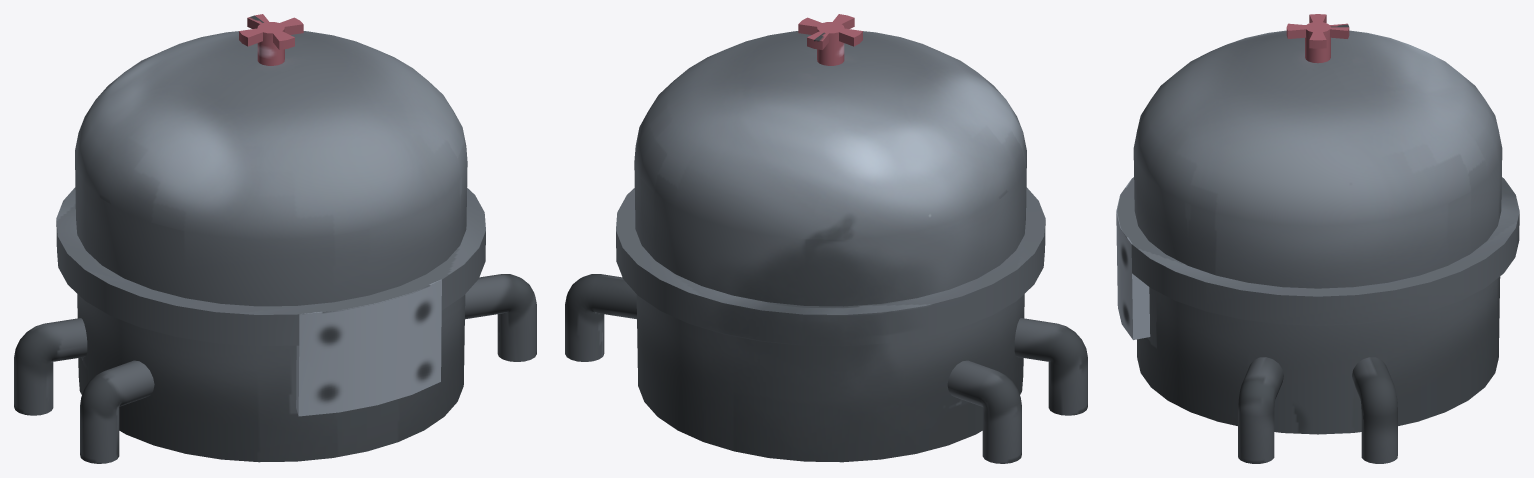
File: liquid_tank.fbx
3 views of the same model, side by side, from view 1: azimuth 30°, elevation 25°; view 2: azimuth 150°, elevation 25°; view 3: azimuth 270°, elevation 25° (orthographic). The views are drawn at different scales.
Visible parts, largest first — view 1: Pipes; view 2: Pipes; view 3: Pipes.
Part boxes in pixels (box(x1,y1,x2,y2)): Pipes: box(14, 14, 536, 463); Pipes: box(565, 14, 1087, 463); Pipes: box(1116, 14, 1519, 463).
Bounding box in the file's own units: 529 × 397 × 438.
1 material, 1 textured.
